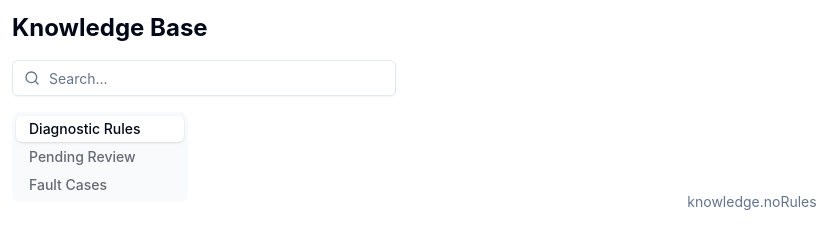
Test: 知识库页面英文来源标签 › 规则数据加载和过滤为空时应显示对应状态
The width and height of the screenshot is (833, 227).
expect the text "knowledge.noRules" is shown: met, box [687,193,817,210]
Click the tab "Pending Review": x=100, y=157 [16,144,184,170]
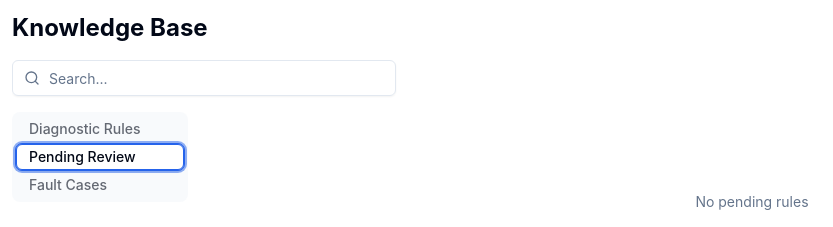
expect the text "No pending rules" is shown: met, box [695,193,808,210]
